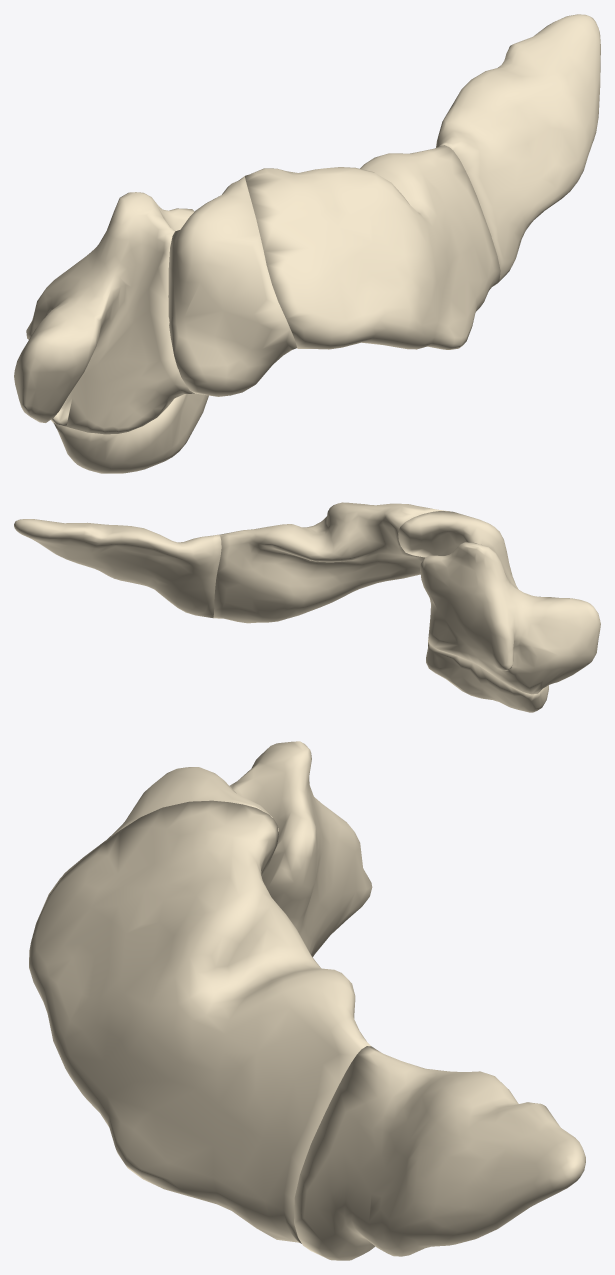
The model's file is vh_f_pancreas-40.glb.
The picture shows the model from 3 angles, top to bottom: view 1: azimuth 30°, elevation 25°; view 2: azimuth 150°, elevation 25°; view 3: azimuth 270°, elevation 25°; orthographic projection. The views are drawn at different scales.
Visible parts, largest first — view 1: VH_F_body_of_pancreas, VH_F_head_of_pancreas, VH_F_tail_of_pancreas, VH_F_neck_of_pancreas, VH_F_uncinate_process; view 2: VH_F_body_of_pancreas, VH_F_head_of_pancreas, VH_F_tail_of_pancreas, VH_F_neck_of_pancreas, VH_F_uncinate_process; view 3: VH_F_body_of_pancreas, VH_F_tail_of_pancreas, VH_F_head_of_pancreas, VH_F_neck_of_pancreas.
Boxes of the visible parts, x1,y1,x2,y2 form: VH_F_body_of_pancreas: (245,145,500,349); VH_F_head_of_pancreas: (14,192,194,434); VH_F_tail_of_pancreas: (436,14,600,283); VH_F_neck_of_pancreas: (168,176,296,396); VH_F_uncinate_process: (53,393,208,473); VH_F_body_of_pancreas: (213,502,450,623); VH_F_head_of_pancreas: (420,542,600,694); VH_F_tail_of_pancreas: (14,519,221,617); VH_F_neck_of_pancreas: (398,511,518,589); VH_F_uncinate_process: (426,642,548,712); VH_F_body_of_pancreas: (29,800,370,1243); VH_F_tail_of_pancreas: (294,1046,585,1260); VH_F_head_of_pancreas: (229,741,372,957); VH_F_neck_of_pancreas: (55,767,278,884).
Bounding box in the file's own units: 0.1721 × 0.0579 × 0.0844.
